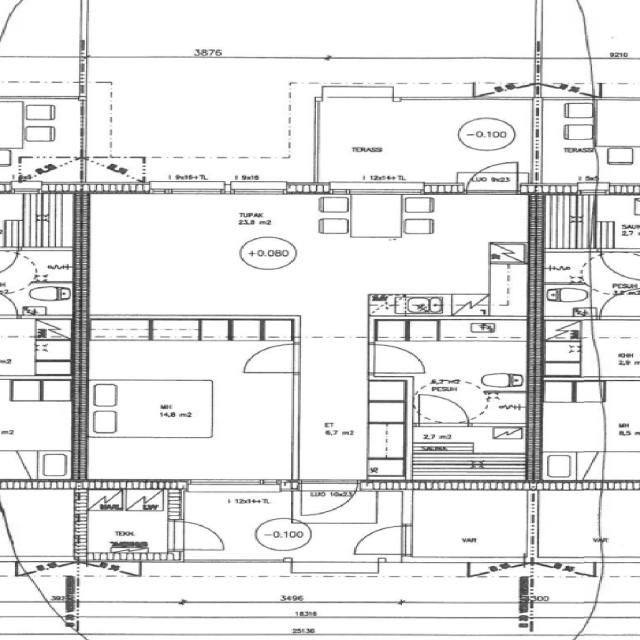door: (403, 422, 532, 484), (80, 510, 220, 560), (519, 559, 602, 610), (518, 596, 595, 639), (292, 479, 360, 519), (166, 518, 234, 554), (363, 342, 430, 378), (346, 522, 414, 557), (234, 341, 300, 377), (461, 158, 525, 194), (413, 391, 476, 426), (594, 249, 640, 280), (593, 289, 640, 319), (552, 561, 602, 581), (0, 250, 21, 272)
window: (146, 180, 268, 198), (326, 182, 434, 198), (524, 0, 551, 46), (218, 180, 292, 196), (71, 0, 96, 45)
zone: (76, 195, 518, 320), (83, 316, 296, 483), (78, 45, 310, 188), (90, 0, 518, 60), (314, 90, 531, 190), (369, 314, 534, 425), (405, 492, 535, 564), (0, 380, 82, 480), (0, 1, 87, 95), (404, 423, 531, 485), (0, 95, 85, 181), (2, 487, 82, 564), (534, 97, 596, 186), (76, 506, 177, 560), (529, 491, 605, 562), (0, 246, 77, 316), (0, 191, 81, 249), (529, 192, 595, 250), (591, 194, 640, 250), (539, 248, 590, 286), (538, 284, 591, 319)
